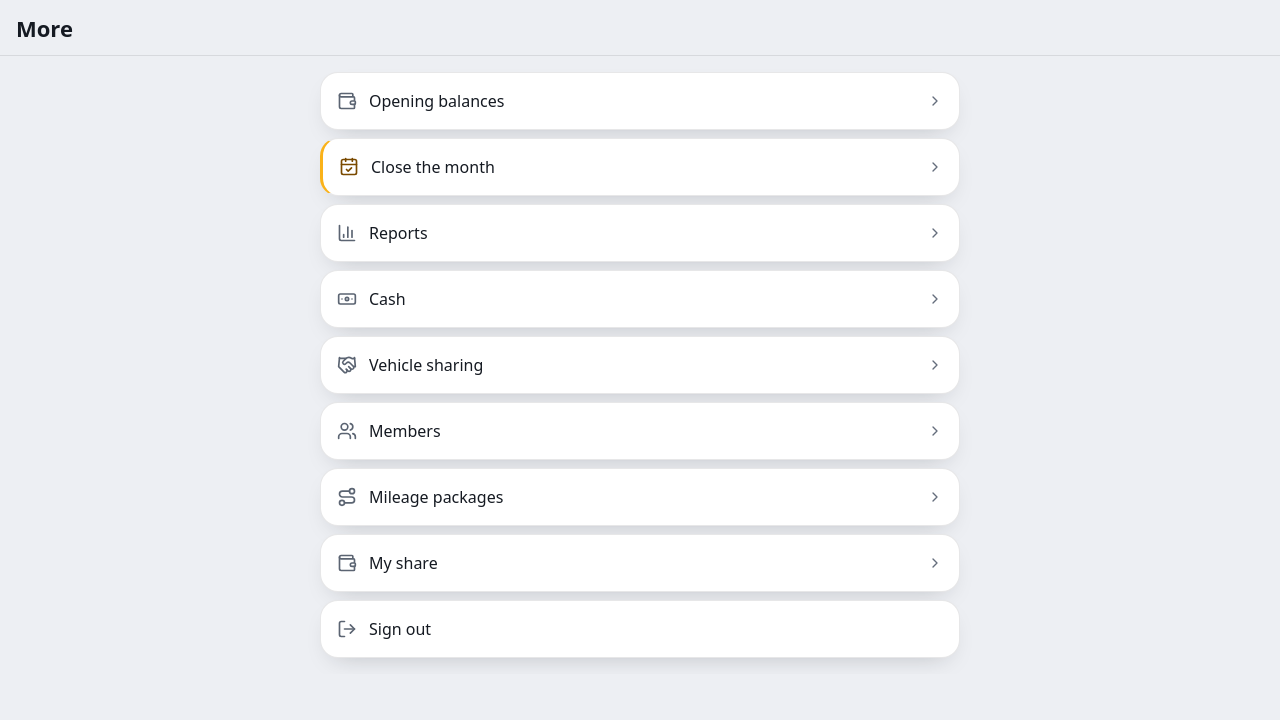
Scenario: MoreScreen › tapping the row asks for confirmation rather than signing out immediately
Click the button "Sign out" at (640, 629), box [320,600,960,658]
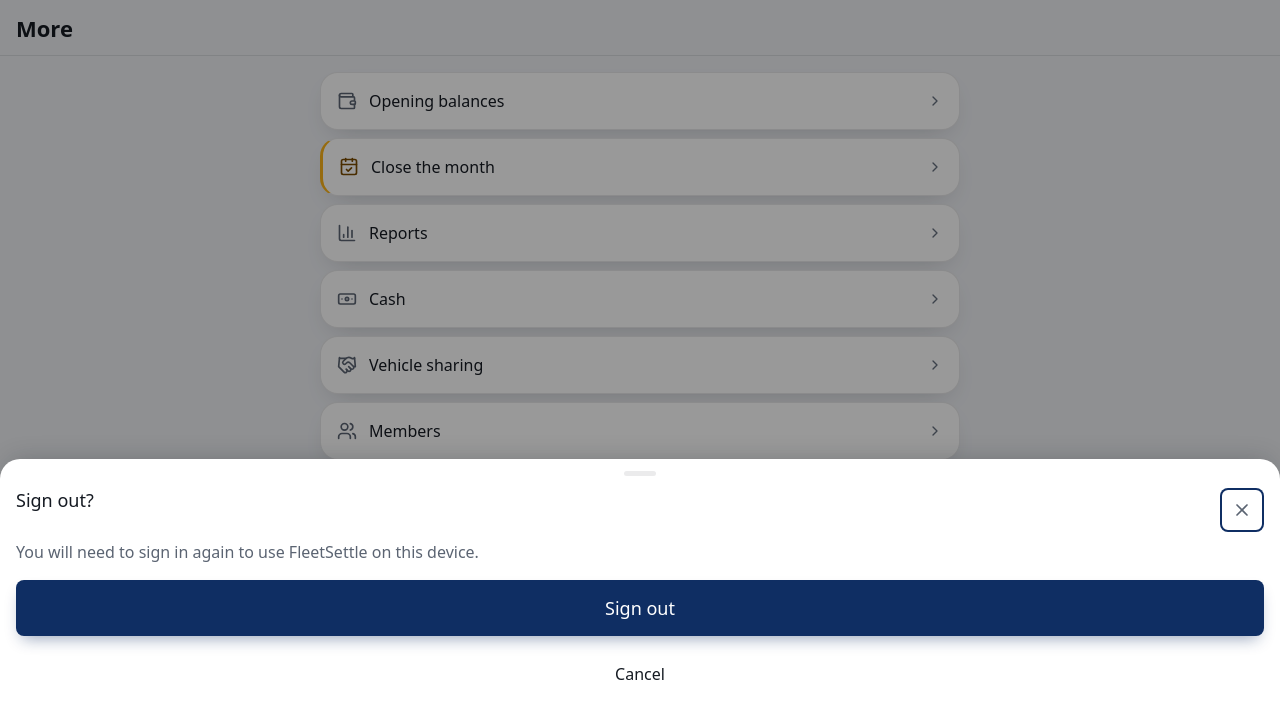
expect the heading "Sign out?" is shown: met, box [16,488,94,512]
